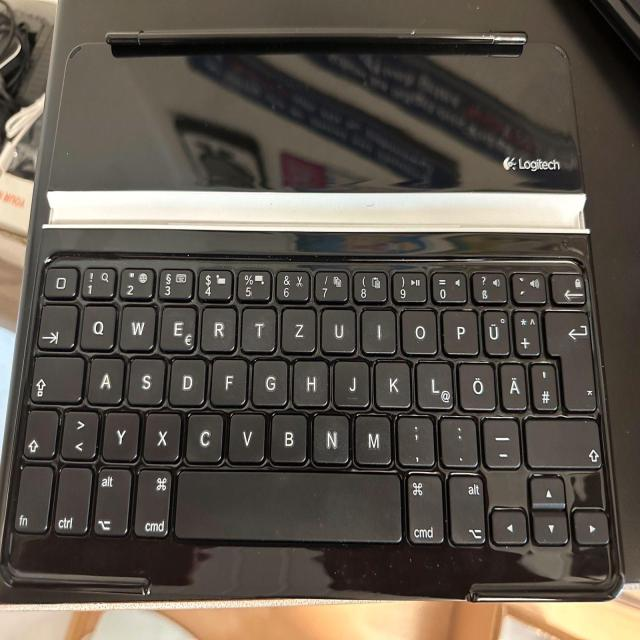0: (429, 269, 467, 302)
1: (80, 265, 116, 297)
2: (118, 265, 154, 298)
3: (158, 267, 195, 300)
4: (197, 267, 234, 300)
5: (234, 267, 271, 300)
6: (273, 268, 310, 300)
7: (313, 268, 350, 301)
8: (351, 269, 388, 302)
9: (390, 269, 427, 301)
a: (86, 352, 123, 403)
accent: (510, 272, 547, 305)
ae: (498, 358, 526, 408)
alt-left: (92, 462, 132, 539)
altgr-right: (446, 469, 486, 548)
b: (268, 408, 307, 462)
c: (183, 408, 223, 462)
comma: (394, 410, 435, 465)
d: (167, 354, 205, 405)
del: (550, 272, 587, 305)
e: (158, 302, 196, 351)
enter: (542, 305, 596, 410)
f: (209, 354, 247, 404)
g: (250, 355, 287, 405)
h: (291, 355, 328, 406)
hash: (529, 358, 556, 409)
i: (359, 305, 396, 352)
j: (332, 355, 369, 406)
k: (372, 355, 411, 407)
keyboard: (3, 251, 621, 567)
l: (414, 357, 453, 408)
less: (59, 407, 98, 460)
m: (352, 409, 391, 464)
minus: (480, 414, 520, 468)
n: (310, 409, 349, 463)
o: (399, 305, 437, 354)
oe: (457, 358, 496, 409)
p: (440, 306, 478, 354)
plus: (512, 306, 539, 355)
point: (437, 412, 478, 465)
q: (79, 301, 116, 349)
r: (199, 303, 236, 351)
s: (126, 354, 165, 404)
shift-left: (22, 405, 59, 458)
shift-lock: (29, 352, 83, 402)
shift-right: (522, 412, 602, 468)
space: (174, 466, 403, 543)
ss: (470, 269, 507, 302)
strg-left: (52, 462, 92, 539)
t: (239, 303, 275, 350)
tab: (36, 301, 77, 350)
u: (318, 304, 355, 352)
ue: (480, 306, 509, 354)
v: (226, 407, 266, 462)
w: (118, 301, 155, 350)
x: (142, 407, 181, 461)
y: (101, 407, 140, 460)
z: (279, 304, 316, 352)
